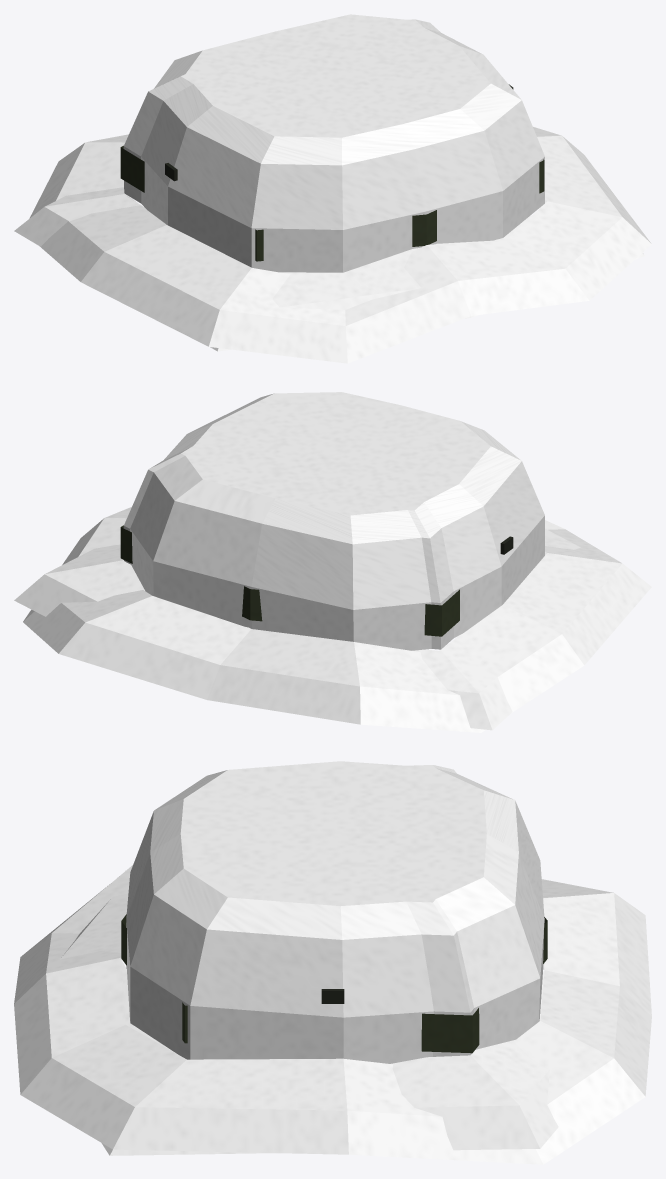
The model's file is head_boonie.glb.
3 views of the same model, one above another, from view 1: azimuth 30°, elevation 25°; view 2: azimuth 150°, elevation 25°; view 3: azimuth 270°, elevation 25° (orthographic). The views are drawn at different scales.
Parts seen in each view (by area): view 1: head_boonie_head_LOD0_RAID_cloth, head_boonie_head_LOD1_RAID_cloth, head_boonie_head_LOD0_RAID_reinforce; view 2: head_boonie_head_LOD0_RAID_cloth, head_boonie_head_LOD1_RAID_cloth, head_boonie_head_LOD0_RAID_reinforce; view 3: head_boonie_head_LOD0_RAID_cloth, head_boonie_head_LOD1_RAID_cloth, head_boonie_head_LOD0_RAID_reinforce.
Part boxes in pixels (bbox=[...]): head_boonie_head_LOD0_RAID_cloth: bbox=[29, 14, 651, 363]; head_boonie_head_LOD1_RAID_cloth: bbox=[14, 19, 645, 351]; head_boonie_head_LOD0_RAID_reinforce: bbox=[120, 145, 544, 261]; head_boonie_head_LOD0_RAID_cloth: bbox=[23, 392, 651, 732]; head_boonie_head_LOD1_RAID_cloth: bbox=[14, 394, 580, 730]; head_boonie_head_LOD0_RAID_reinforce: bbox=[120, 525, 459, 636]; head_boonie_head_LOD0_RAID_cloth: bbox=[14, 761, 651, 1164]; head_boonie_head_LOD1_RAID_cloth: bbox=[60, 765, 558, 1155]; head_boonie_head_LOD0_RAID_reinforce: bbox=[121, 914, 547, 1053].
Size of the model in its own units: 0.438 by 0.135 by 0.398.
Materials: 4 (4 with a texture image).
